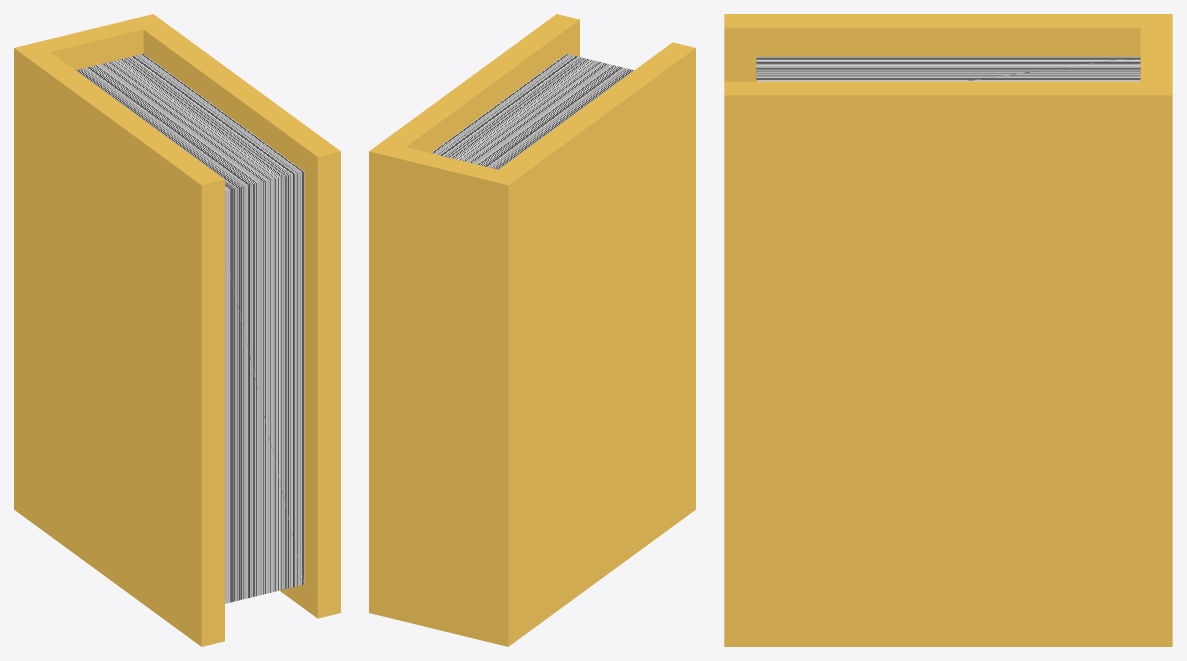
File: book_orange.glb
3 renders of one model, left to right at view 1: azimuth 30°, elevation 25°; view 2: azimuth 150°, elevation 25°; view 3: azimuth 270°, elevation 25°, orthographic. The views are drawn at different scales.
Bounding box in the file's own units: 12 × 38 × 28.
1 material, 1 textured.
